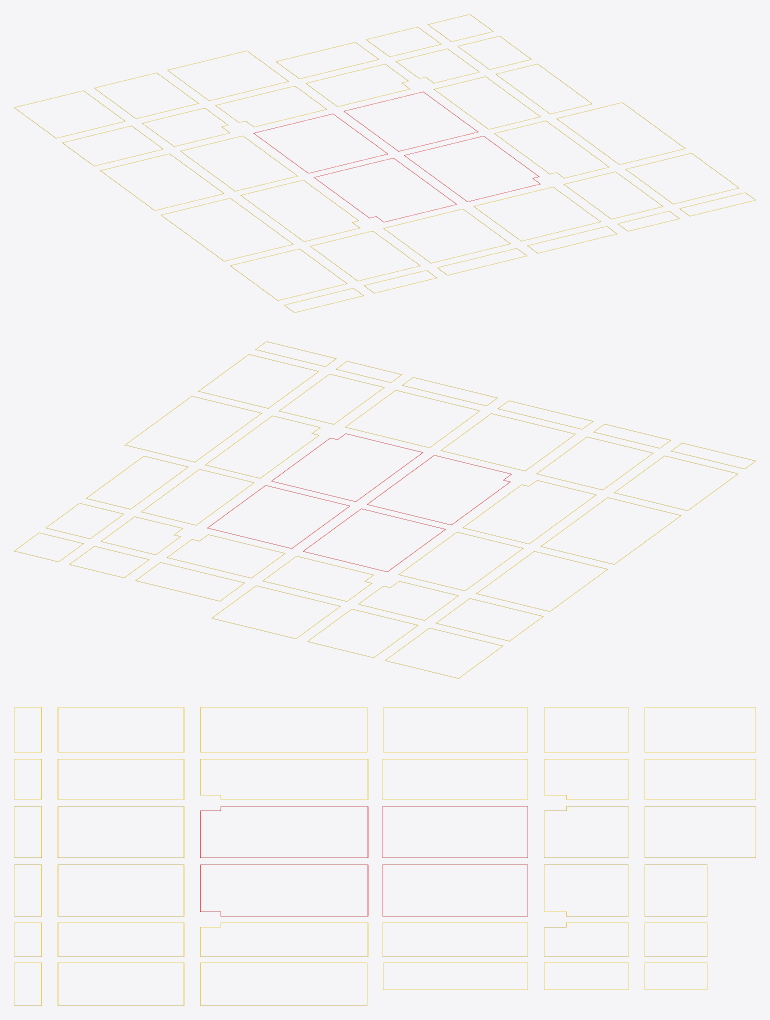
Rendered from track_lights.gltf.
3 views of the same model, one above another, from view 1: azimuth 30°, elevation 25°; view 2: azimuth 150°, elevation 25°; view 3: azimuth 270°, elevation 25° (orthographic). The views are drawn at different scales.
Bounding box in the file's own units: 20.28 × 0.00635 × 21.34.
